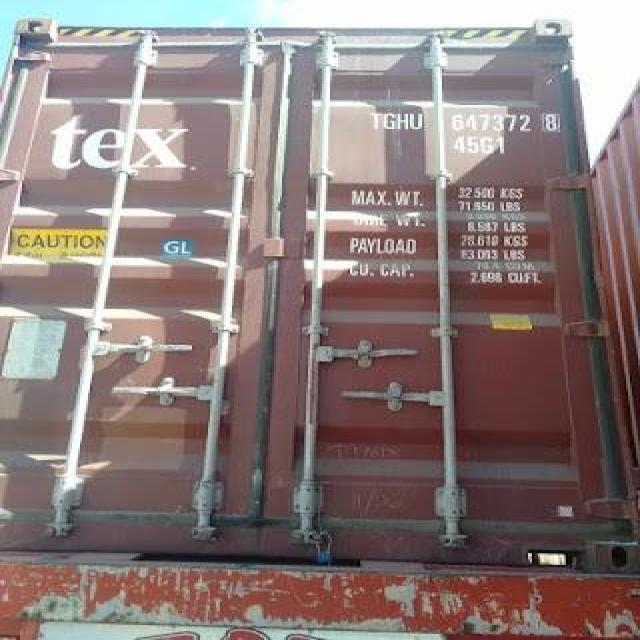ISO: (451, 136, 506, 160)
container_number: (381, 110, 556, 134)
